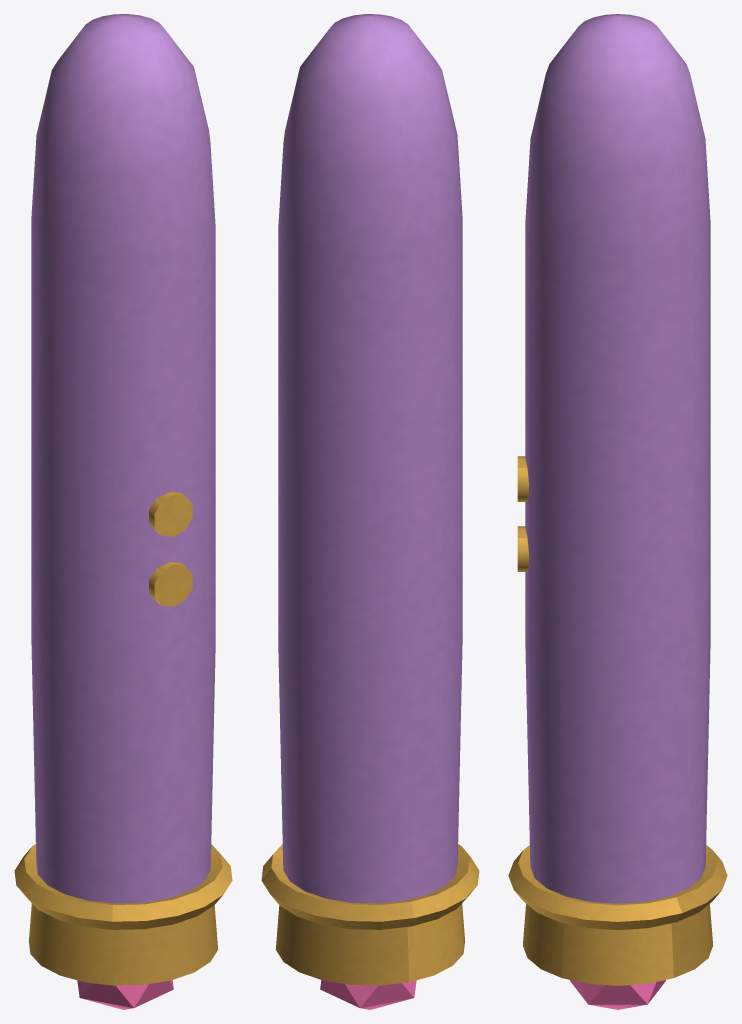
File: Toy_Vibrator.fbx
The picture shows the model from 3 angles, left to right: view 1: azimuth 30°, elevation 25°; view 2: azimuth 150°, elevation 25°; view 3: azimuth 270°, elevation 25°; orthographic projection.
Visible parts, largest first — view 1: Toy_Vibrator; view 2: Toy_Vibrator; view 3: Toy_Vibrator.
Boxes of the visible parts, left/top/right/bottom form: Toy_Vibrator: left=14, top=14, right=232, bottom=1009; Toy_Vibrator: left=261, top=14, right=479, bottom=1009; Toy_Vibrator: left=508, top=14, right=727, bottom=1009.
Size of the model in its own units: 0.0426 by 0.2128 by 0.0426.
Materials: 3 (3 with a texture image).
